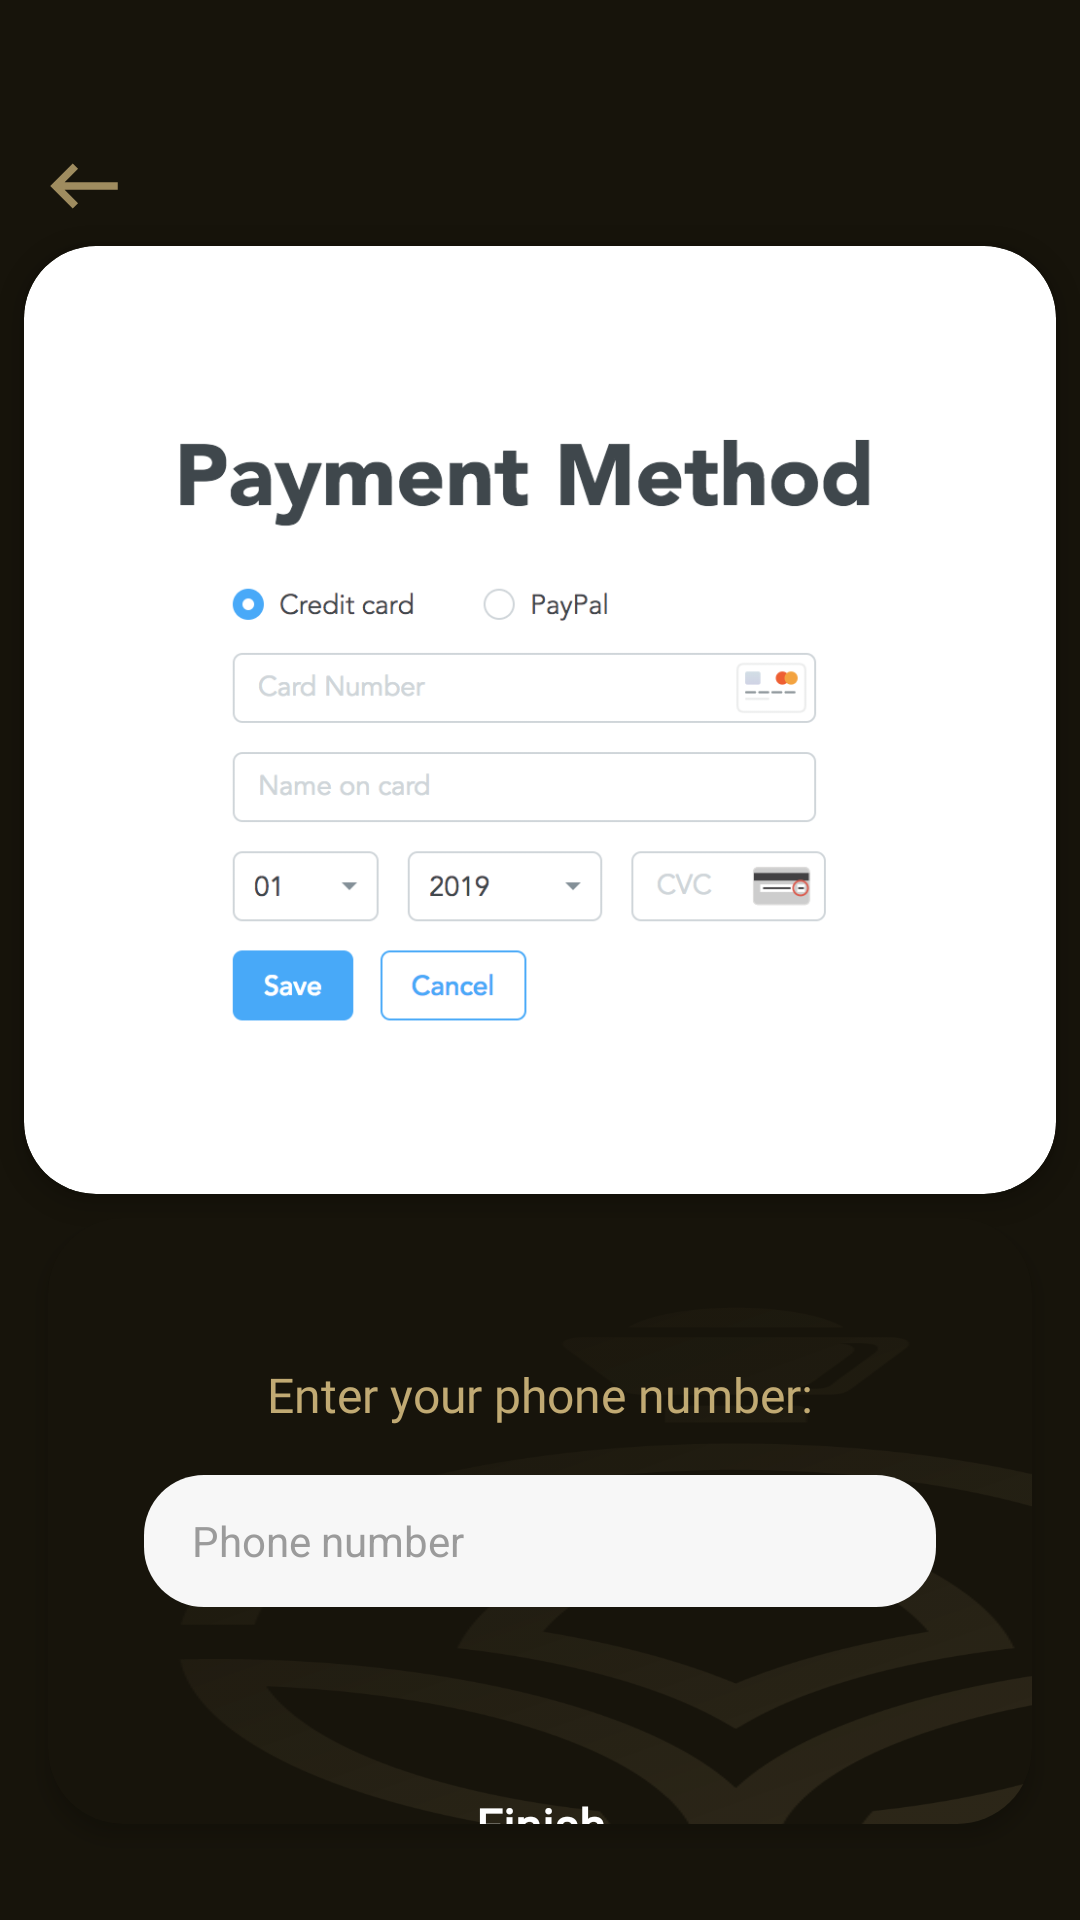

Named icons in this screenshot (1080x1920) and their bounding boxes, (x1, y1, x2, y2):
back: (50, 163, 118, 209)
